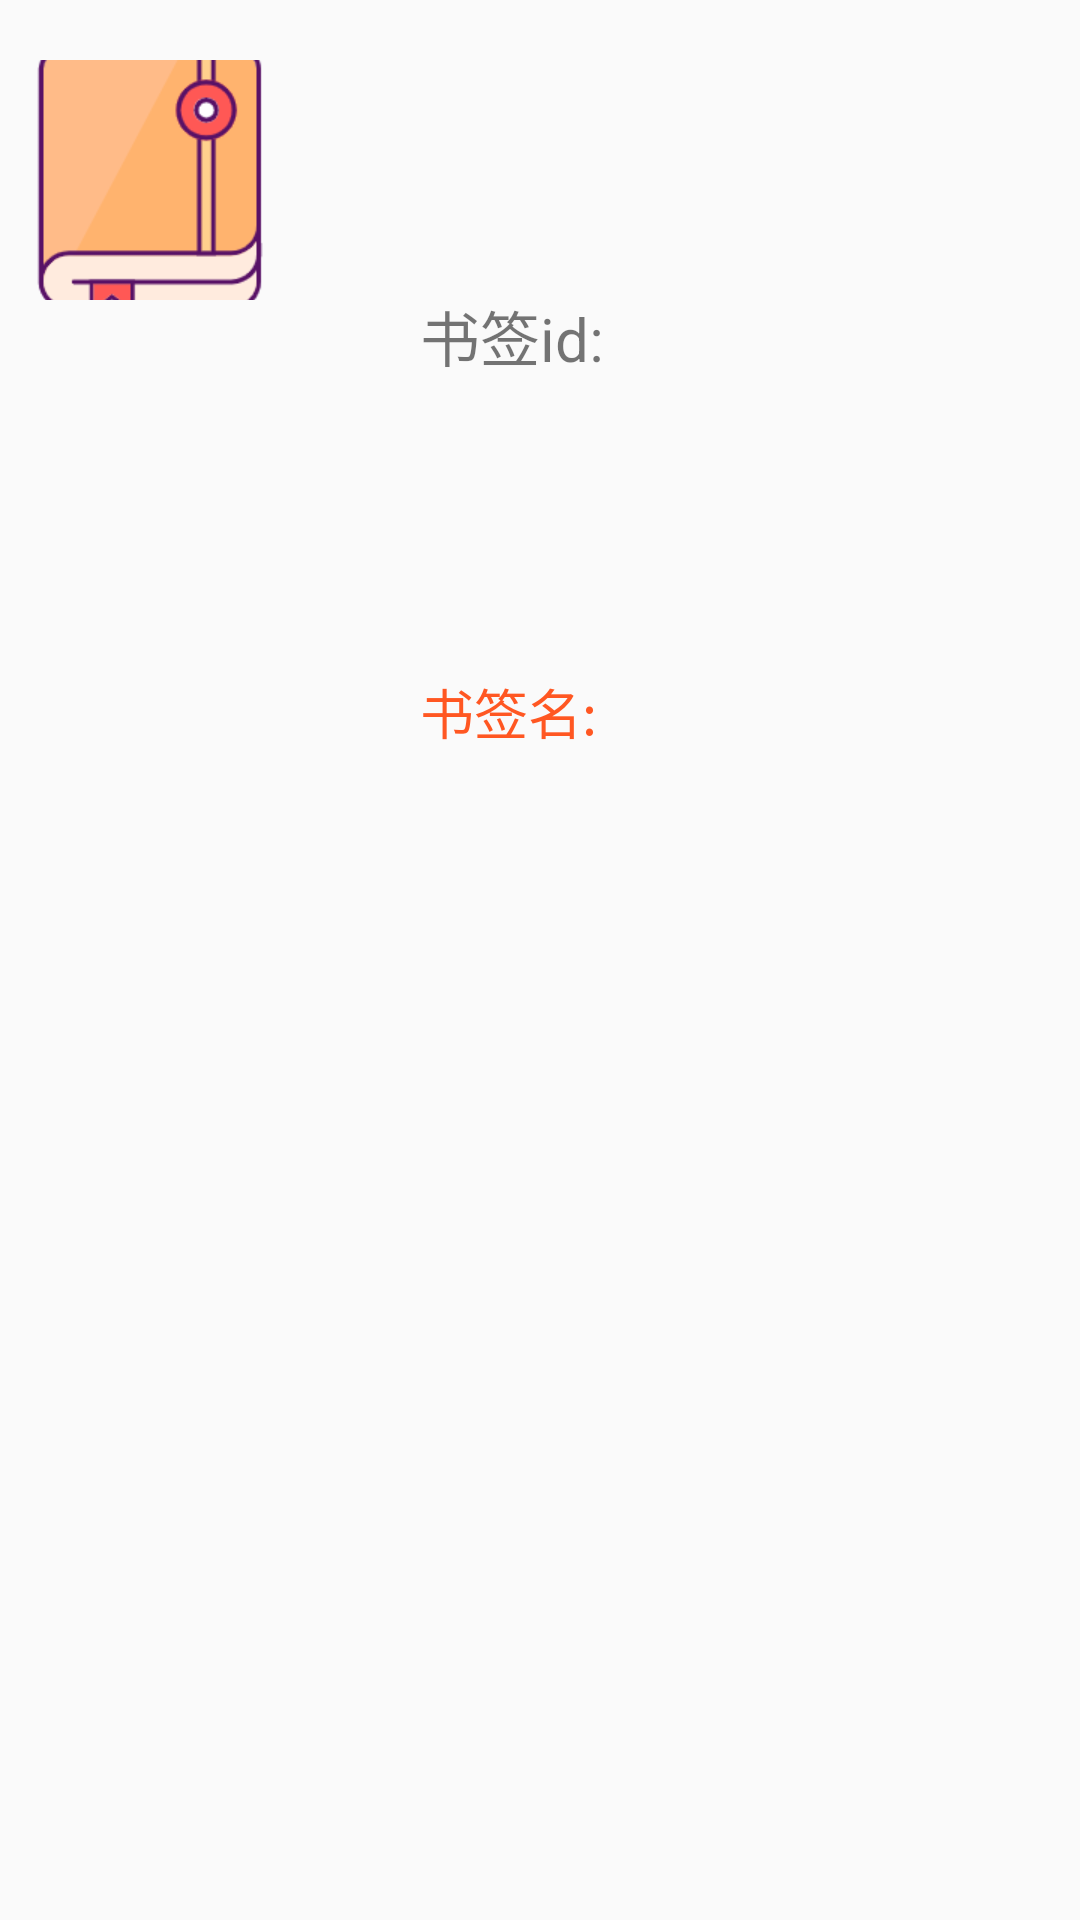

Named icons in this screenshot (1080px x 1920px) and their bounding boxes, {"left": x1, "top": y1, "right": x2, "bottom": y2}:
bookmark: {"left": 37, "top": 60, "right": 263, "bottom": 300}
